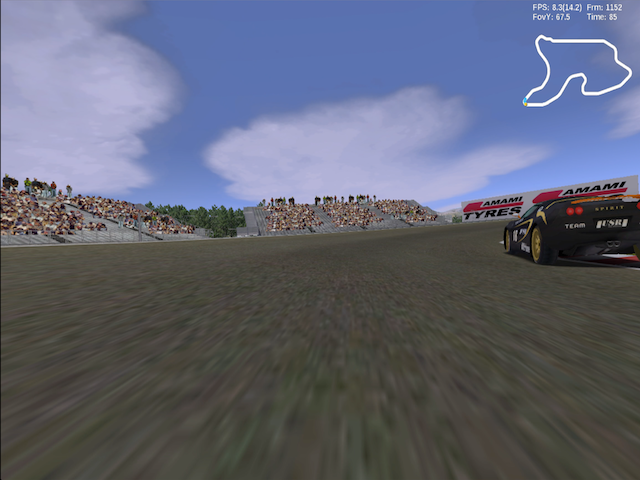Spirit300: (502, 194, 640, 265)
